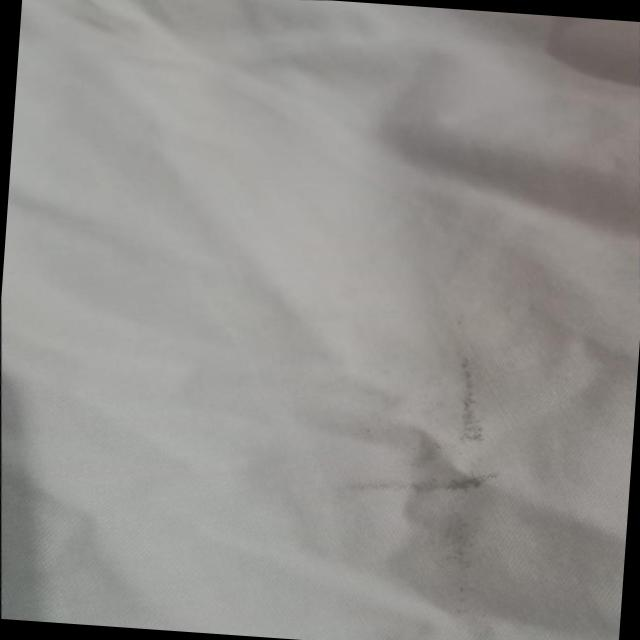stain: (314, 316, 528, 517)
